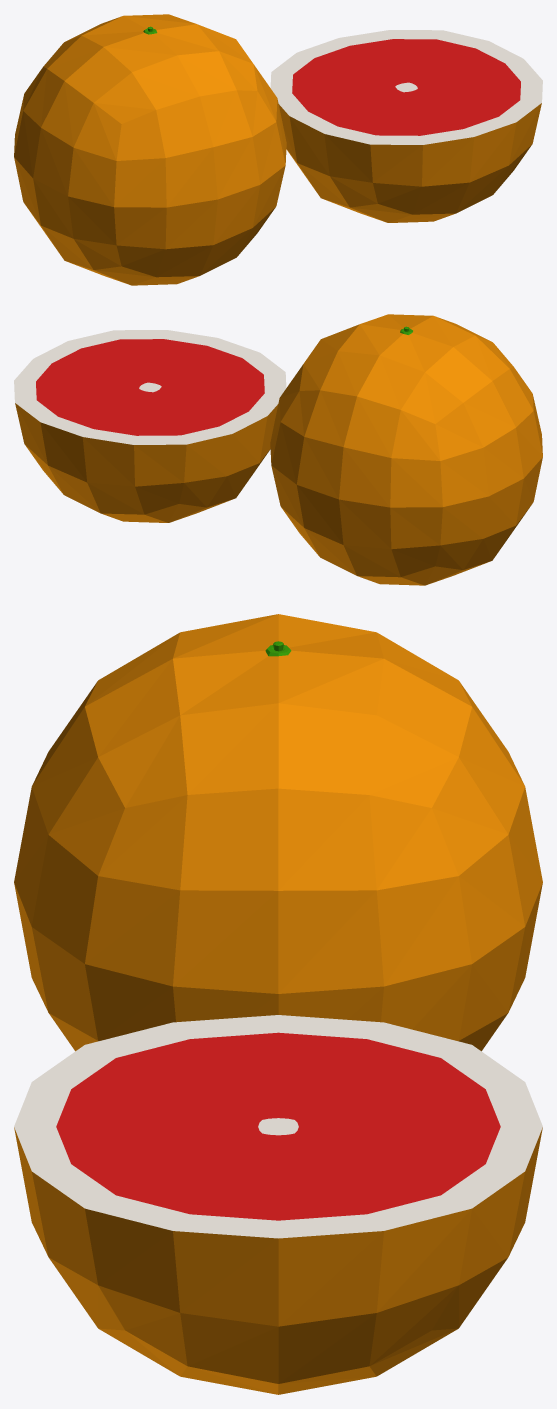
Rendered from Grapefruit.glb.
3 renders of one model, top to bottom at view 1: azimuth 30°, elevation 25°; view 2: azimuth 150°, elevation 25°; view 3: azimuth 270°, elevation 25°, orthographic. The views are drawn at different scales.
Visible parts, largest first — view 1: Node; view 2: Node; view 3: Node.
Part boxes in pixels (left/top/right/bottom): Node: left=14, top=14, right=542, bottom=285; Node: left=14, top=314, right=542, bottom=585; Node: left=14, top=614, right=542, bottom=1394.
Bounding box in the file's own units: 2.68 × 1.28 × 1.28.
